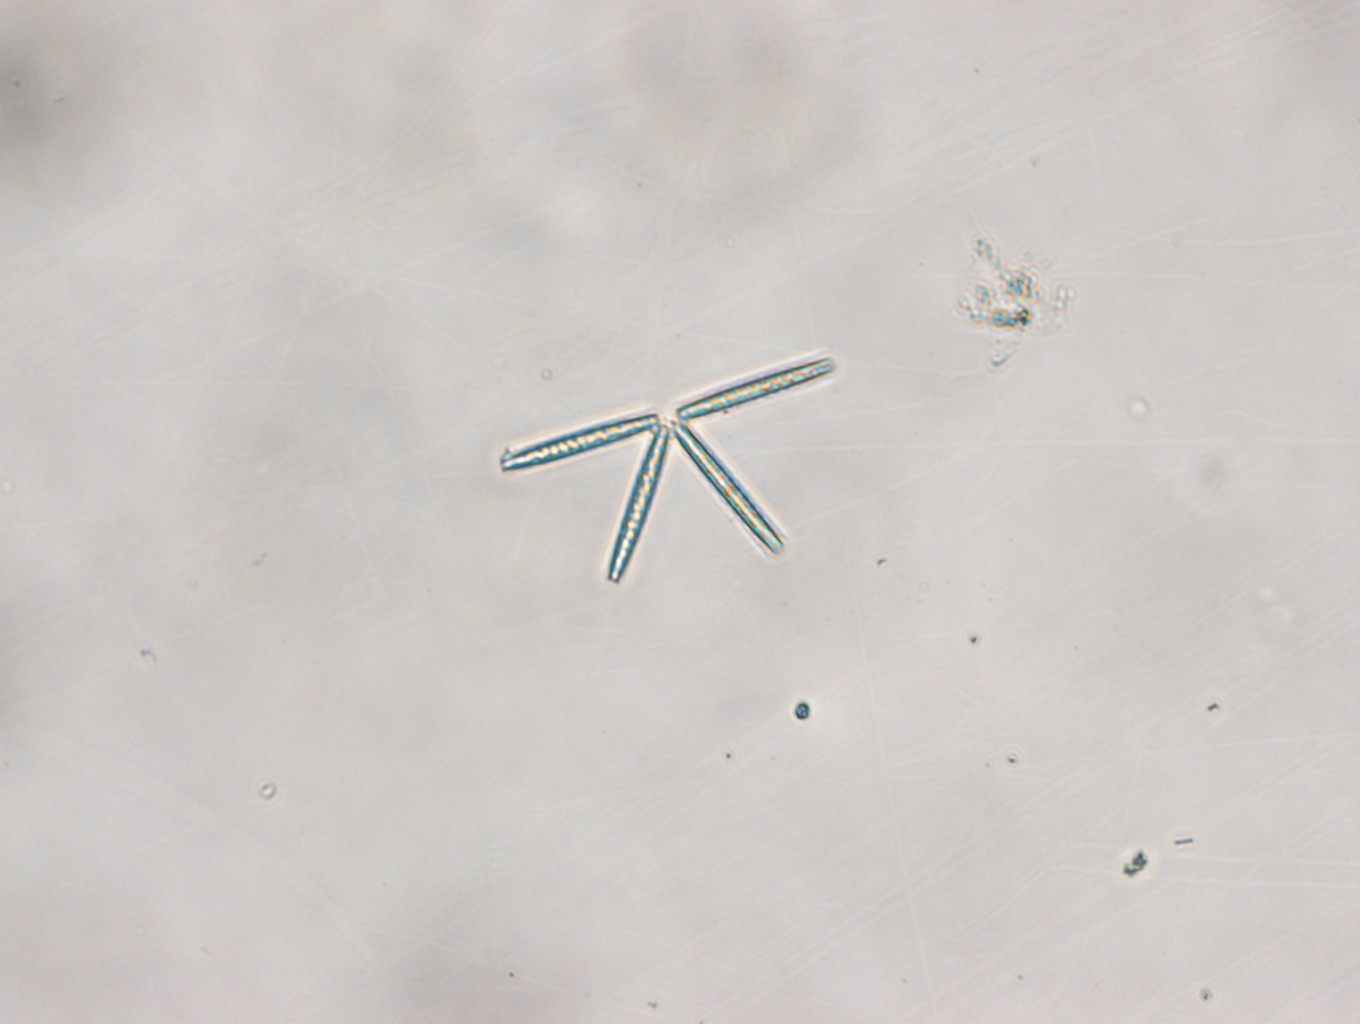thalassionema nitzschioides: (499, 354, 839, 584)
